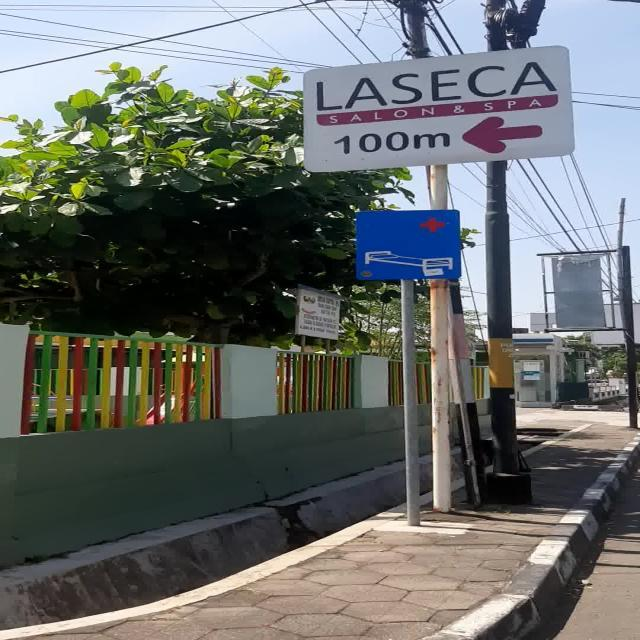Rumah Sakit: (355, 209, 462, 280)
